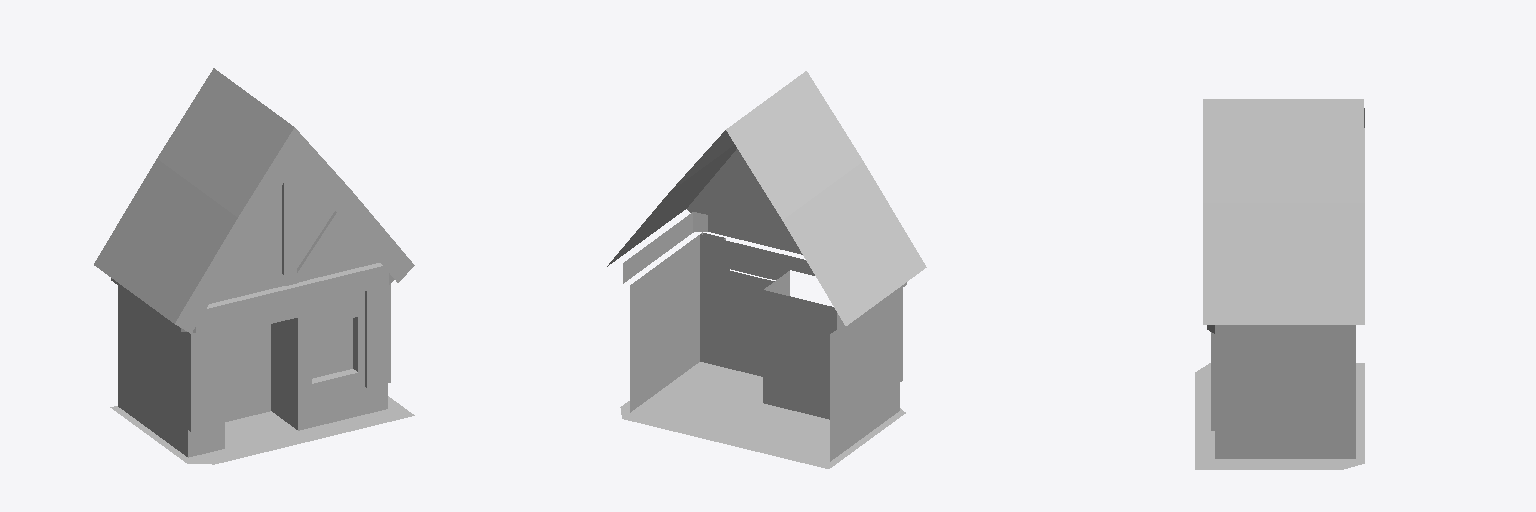
Rendered from house1.obj.
3 views of the same model, side by side, from view 1: azimuth 30°, elevation 25°; view 2: azimuth 150°, elevation 25°; view 3: azimuth 270°, elevation 25° (orthographic).
Parts seen in each view (by area): view 1: polygon2; view 2: polygon2; view 3: polygon2.
Boxes of the visible parts, <box> form: polygon2: <box>94,68,414,457</box>; polygon2: <box>607,71,926,461</box>; polygon2: <box>1203,99,1364,458</box>.
Size of the model in its own units: 72 by 90 by 44.